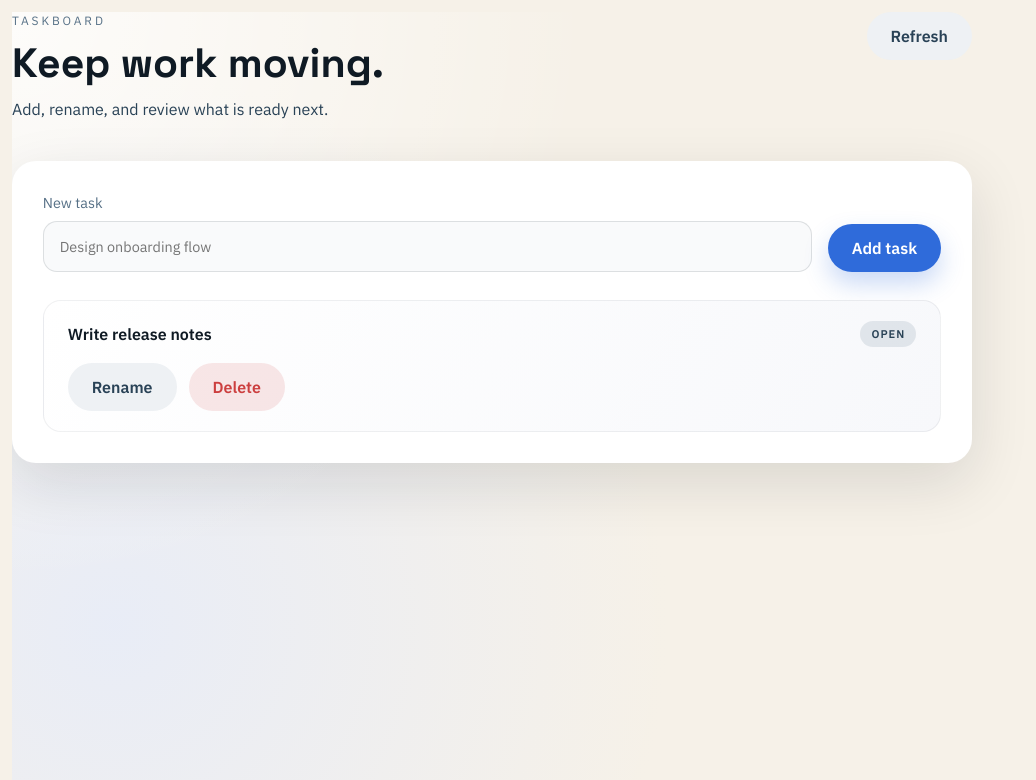
TaskBoard › renames an existing task
The width and height of the screenshot is (1036, 780).
Check: the text "Write release notes" is shown, box [68,322,212,346]
Click the button "Rename".
click(122, 388)  # box [68,364,176,412]
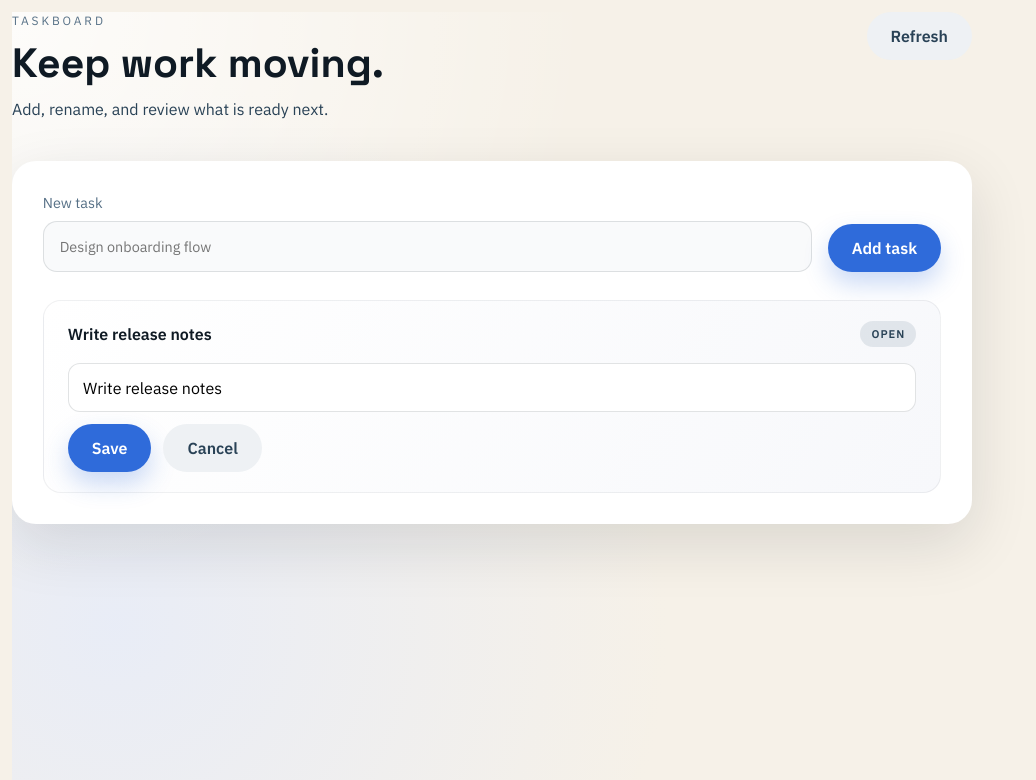
Replace the text in the field showing "Write release notes" with "Publish release notes" at x=492, y=388, box [68,364,916,412]
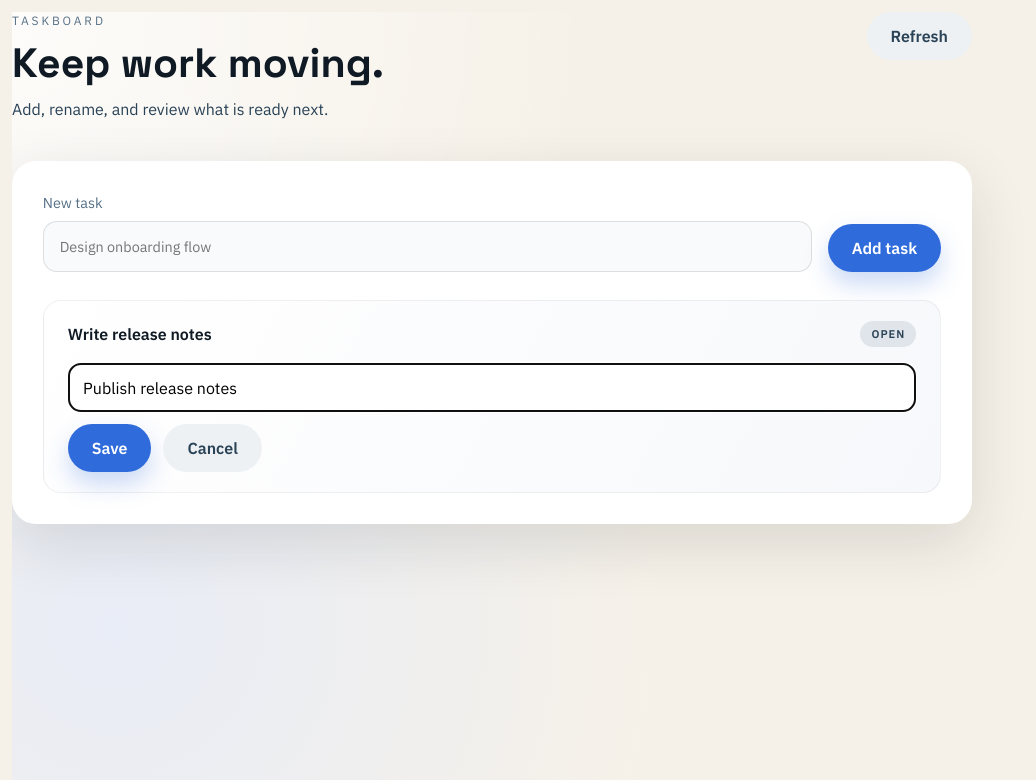
Click the button "Save".
click(110, 448)  # box [68,424,152,472]
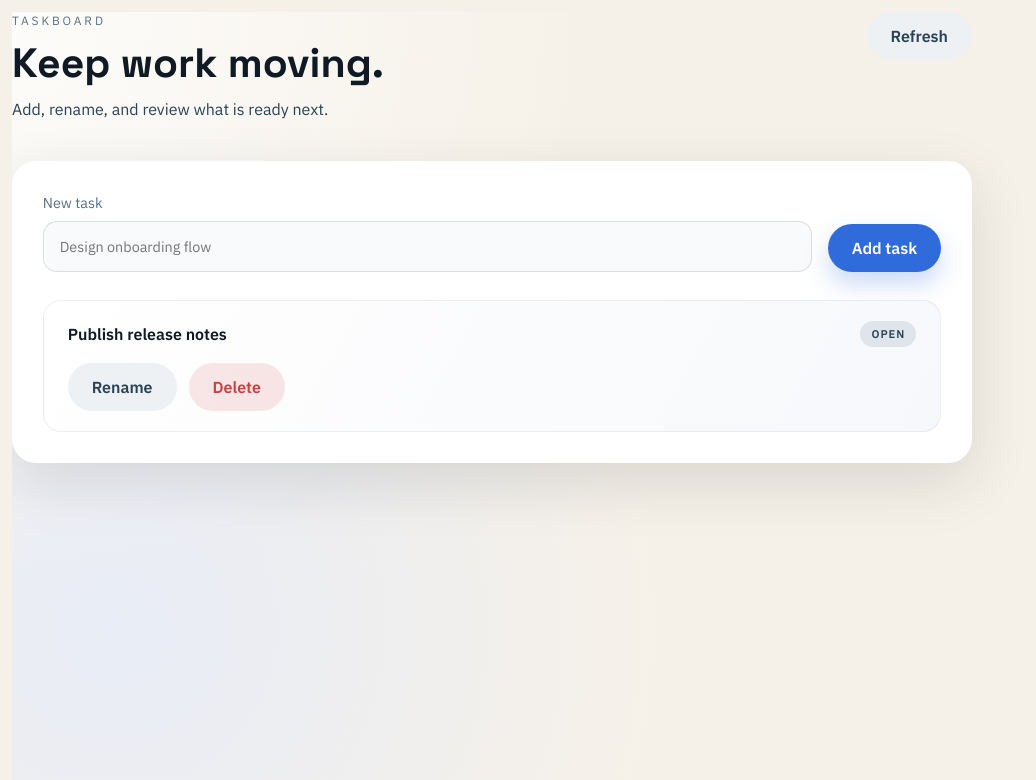
Check: the text "Publish release notes" is shown, box [68,322,227,346]
